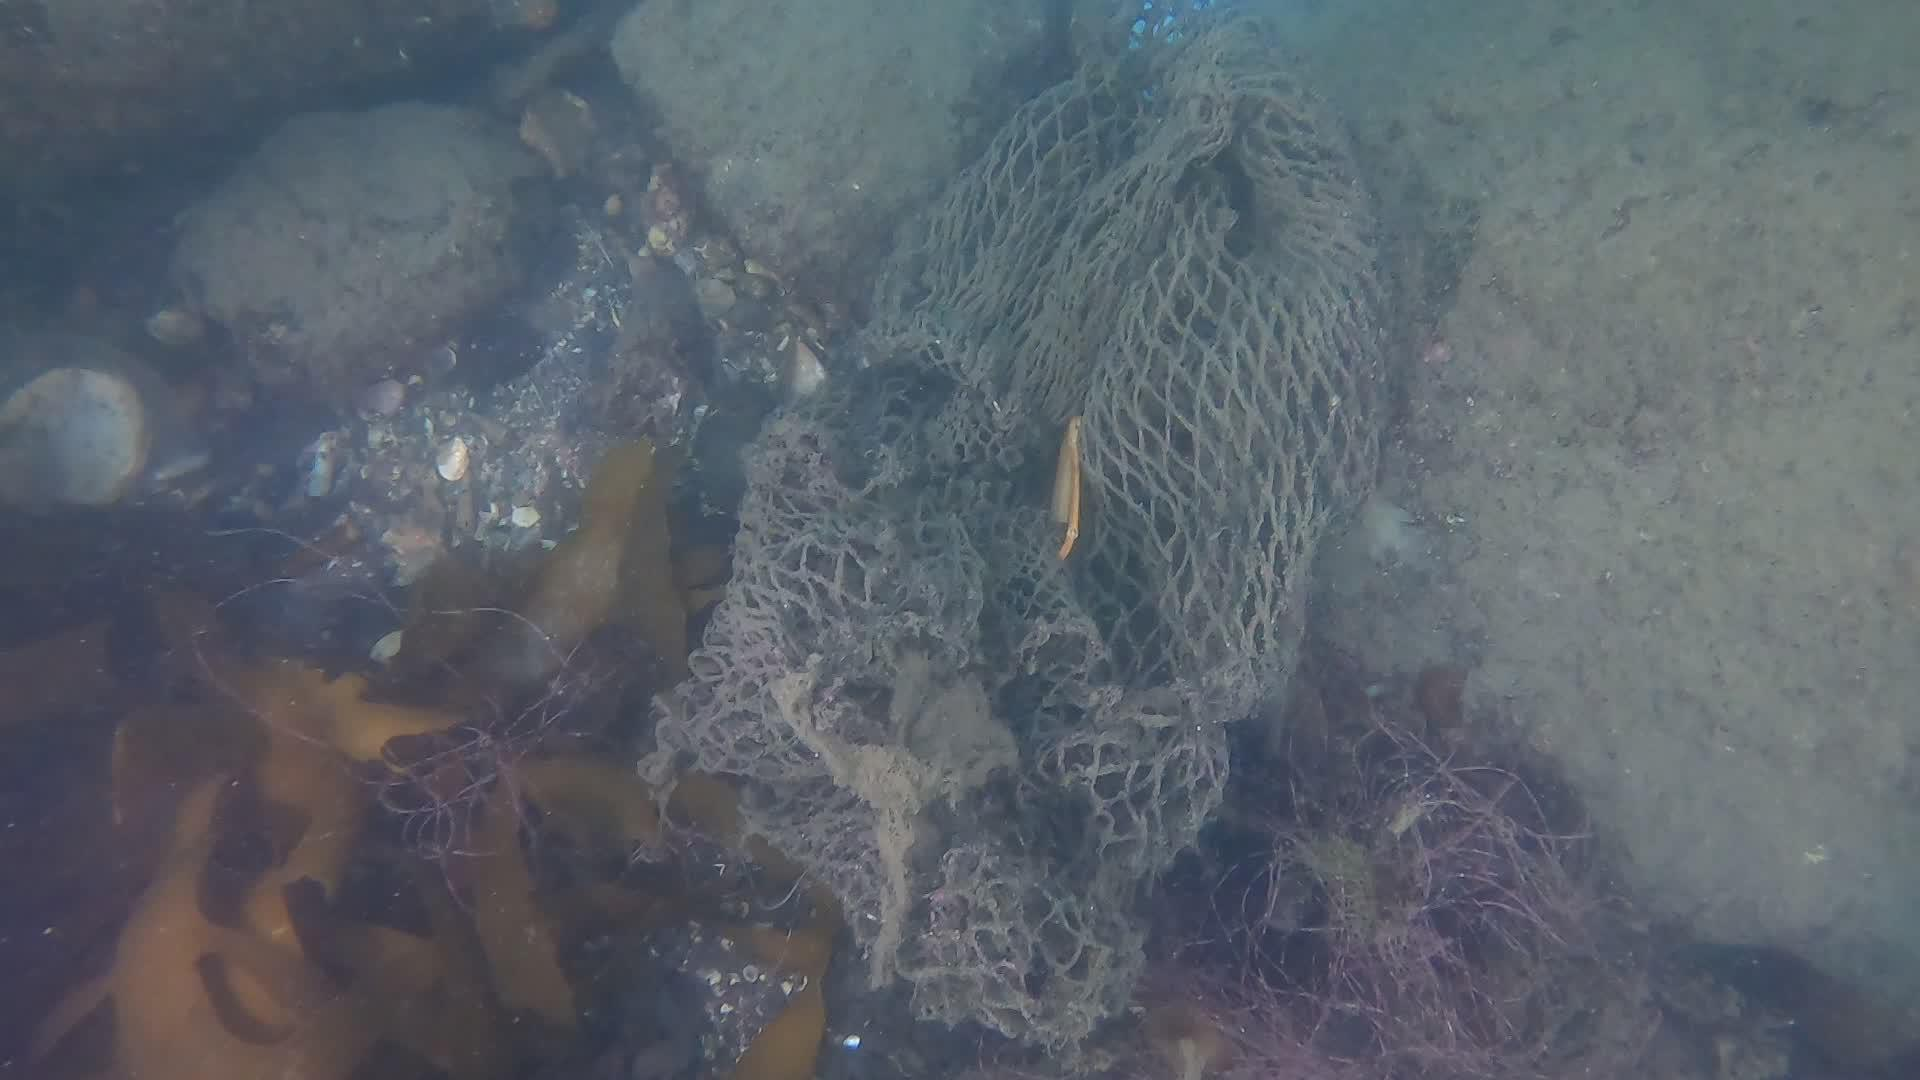fish net: (674, 0, 1387, 1038)
